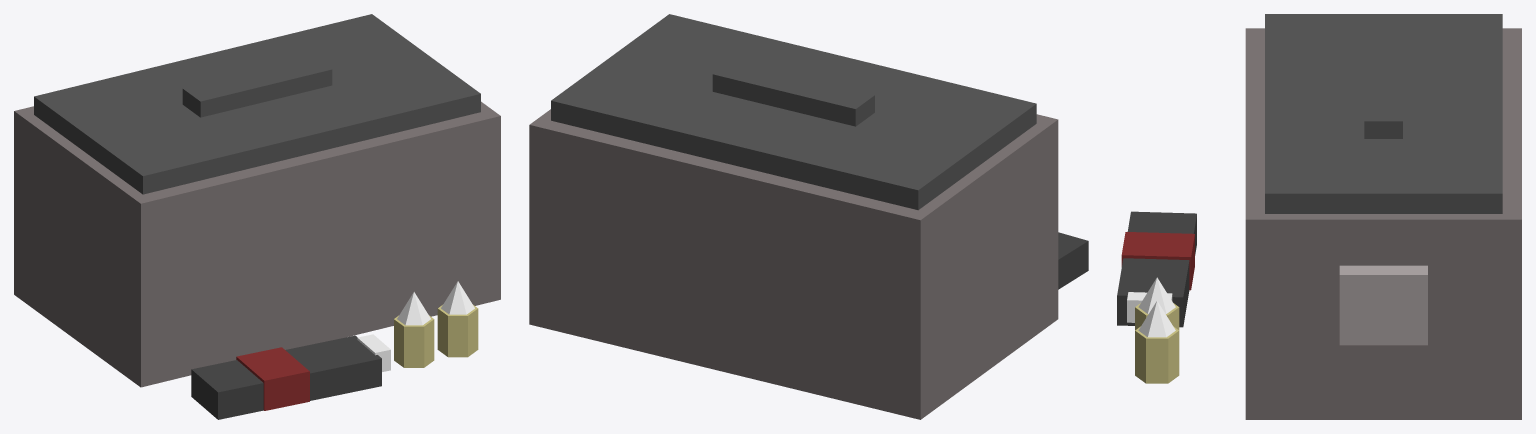
File: ce_ammo_pistol_ap_c.obj
3 views of the same model, side by side, from view 1: azimuth 30°, elevation 25°; view 2: azimuth 150°, elevation 25°; view 3: azimuth 270°, elevation 25° (orthographic). The views are drawn at different scales.
Visible parts, largest first — view 1: ce_ammo_pistol_ap_c_0, ce_ammo_pistol_ap_c_1, ce_ammo_pistol_ap_c_4, ce_ammo_pistol_ap_c_2, ce_ammo_pistol_ap_c_5, ce_ammo_pistol_ap_c_9, ce_ammo_pistol_ap_c_7, ce_ammo_pistol_ap_c_8, ce_ammo_pistol_ap_c_10, ce_ammo_pistol_ap_c_6; view 2: ce_ammo_pistol_ap_c_0, ce_ammo_pistol_ap_c_1, ce_ammo_pistol_ap_c_2, ce_ammo_pistol_ap_c_4; view 3: ce_ammo_pistol_ap_c_0, ce_ammo_pistol_ap_c_1, ce_ammo_pistol_ap_c_3, ce_ammo_pistol_ap_c_4, ce_ammo_pistol_ap_c_2, ce_ammo_pistol_ap_c_9, ce_ammo_pistol_ap_c_5, ce_ammo_pistol_ap_c_10, ce_ammo_pistol_ap_c_8, ce_ammo_pistol_ap_c_7, ce_ammo_pistol_ap_c_6.
Part boxes in pixels (x1,y1,x2,y2): ce_ammo_pistol_ap_c_0: [14, 101, 500, 387]; ce_ammo_pistol_ap_c_1: [34, 14, 480, 194]; ce_ammo_pistol_ap_c_4: [191, 335, 381, 419]; ce_ammo_pistol_ap_c_2: [182, 56, 332, 117]; ce_ammo_pistol_ap_c_5: [236, 347, 309, 410]; ce_ammo_pistol_ap_c_9: [437, 305, 478, 357]; ce_ammo_pistol_ap_c_7: [394, 315, 434, 367]; ce_ammo_pistol_ap_c_8: [397, 292, 430, 325]; ce_ammo_pistol_ap_c_10: [441, 281, 474, 314]; ce_ammo_pistol_ap_c_6: [357, 334, 390, 371]; ce_ammo_pistol_ap_c_0: [529, 109, 1058, 419]; ce_ammo_pistol_ap_c_1: [551, 14, 1036, 210]; ce_ammo_pistol_ap_c_2: [712, 60, 874, 126]; ce_ammo_pistol_ap_c_4: [1058, 232, 1088, 289]; ce_ammo_pistol_ap_c_0: [1245, 28, 1521, 419]; ce_ammo_pistol_ap_c_1: [1265, 14, 1502, 213]; ce_ammo_pistol_ap_c_3: [1339, 265, 1427, 345]; ce_ammo_pistol_ap_c_4: [1117, 211, 1196, 327]; ce_ammo_pistol_ap_c_2: [1364, 51, 1402, 138]; ce_ammo_pistol_ap_c_9: [1135, 326, 1179, 383]; ce_ammo_pistol_ap_c_5: [1121, 232, 1194, 290]; ce_ammo_pistol_ap_c_10: [1138, 301, 1175, 337]; ce_ammo_pistol_ap_c_8: [1138, 277, 1175, 313]; ce_ammo_pistol_ap_c_7: [1135, 303, 1179, 330]; ce_ammo_pistol_ap_c_6: [1127, 292, 1172, 322].
Bounding box in the file's own units: 0.86 × 0.475 × 0.7324.
